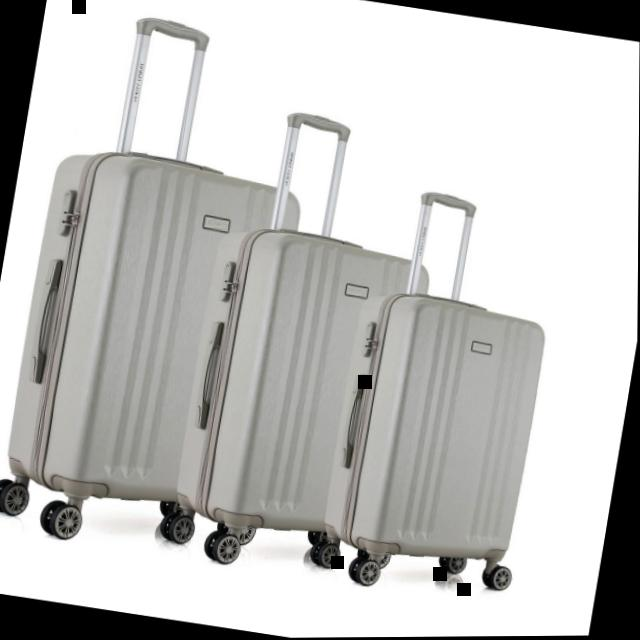luggage: (0, 127, 314, 567), (150, 207, 446, 598), (310, 273, 568, 613)
